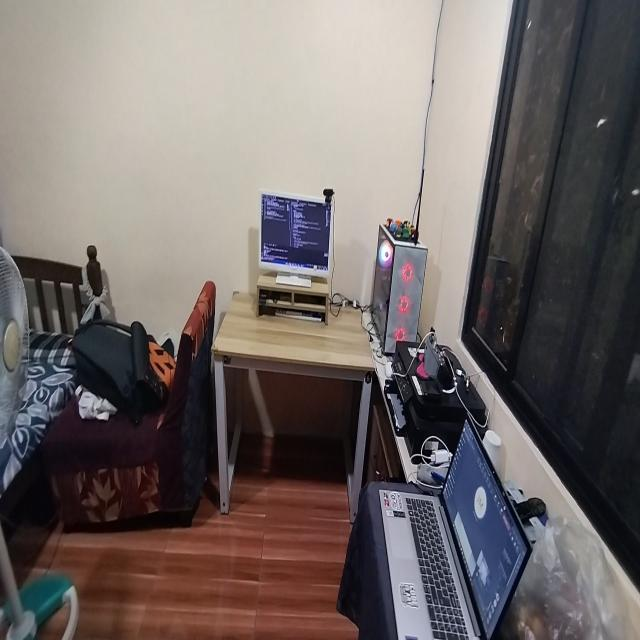table: (210, 288, 376, 532)
